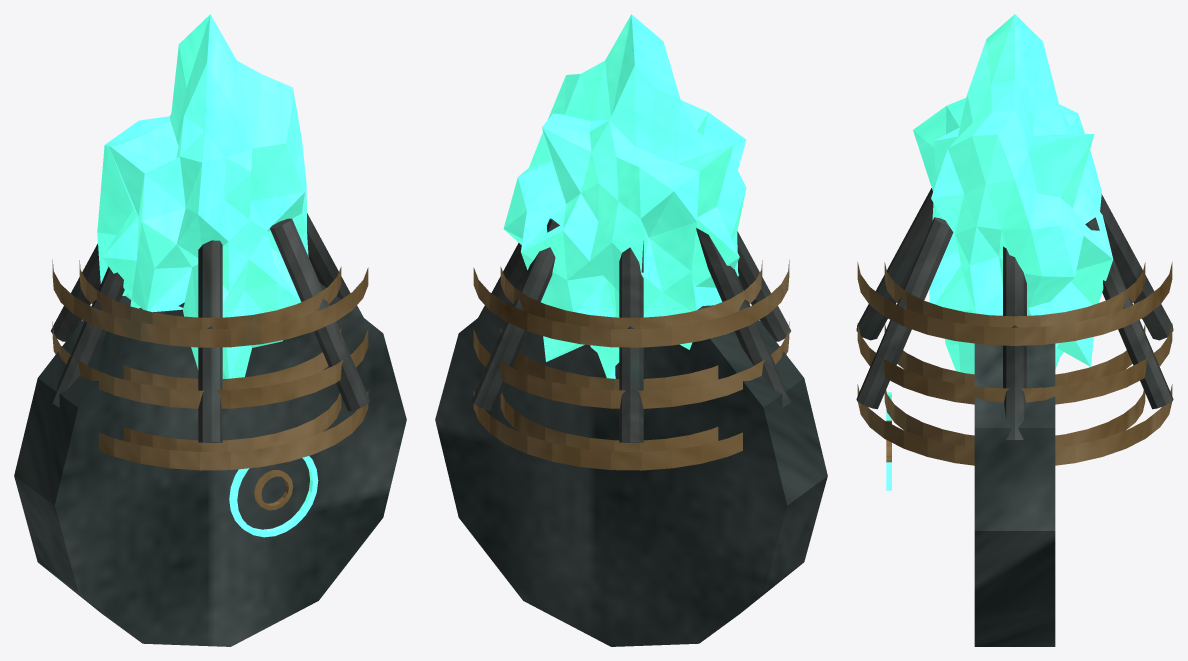
The model's file is 0978_offering_relic_03.glb.
3 renders of one model, left to right at view 1: azimuth 30°, elevation 25°; view 2: azimuth 150°, elevation 25°; view 3: azimuth 270°, elevation 25°, orthographic.
Visible parts, largest first — view 1: stone_dark, glow, brass, iron; view 2: stone_dark, glow, brass, iron; view 3: glow, brass, stone_dark, iron.
Boxes of the visible parts, left/top/right/bottom form: stone_dark: left=14, top=282, right=406, bottom=646; glow: left=97, top=14, right=318, bottom=537; brass: left=52, top=260, right=368, bottom=510; iron: left=51, top=213, right=370, bottom=442; stone_dark: left=435, top=282, right=827, bottom=646; glow: left=503, top=14, right=746, bottom=378; brass: left=473, top=260, right=789, bottom=470; iron: left=471, top=218, right=790, bottom=442; glow: left=886, top=14, right=1113, bottom=490; brass: left=857, top=262, right=1172, bottom=465; stone_dark: left=974, top=343, right=1055, bottom=646; iron: left=856, top=188, right=1173, bottom=439.
Size of the model in its own units: 0.9 by 1.51 by 0.7056.
Materials: 4 (4 with a texture image).
